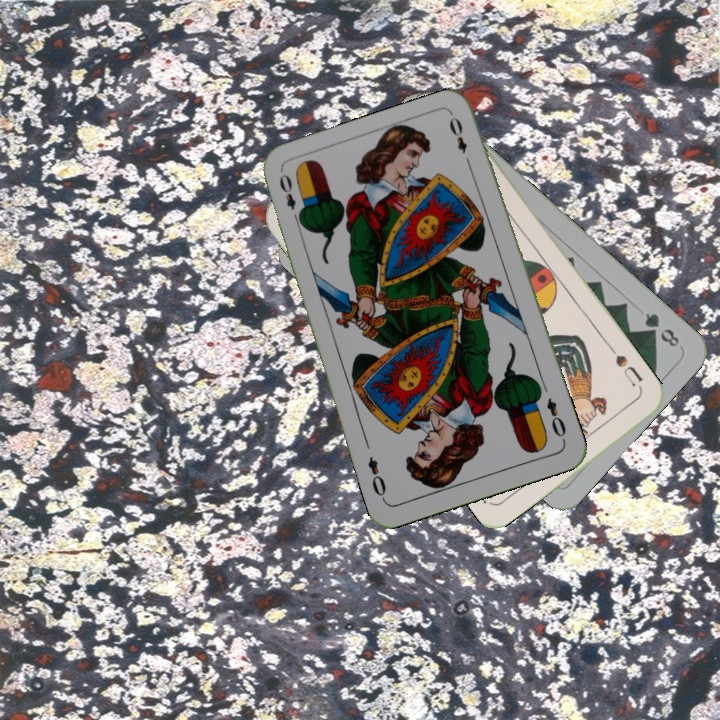EO: (275, 170, 305, 227), (542, 394, 569, 440)
G8: (640, 308, 682, 350)
SU: (606, 343, 646, 389)
